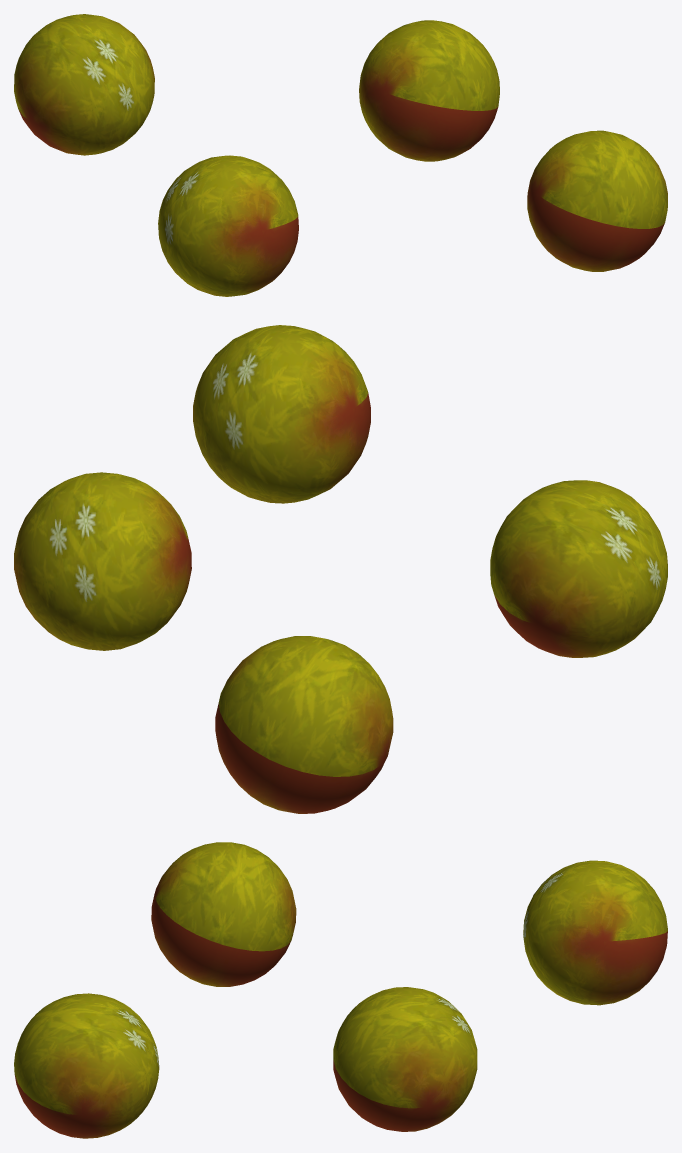
Rendered from Grass Seeds.fbx.
The picture shows the model from 3 angles, top to bottom: view 1: azimuth 30°, elevation 25°; view 2: azimuth 150°, elevation 25°; view 3: azimuth 270°, elevation 25°; orthographic projection. The views are drawn at different scales.
Parts seen in each view (by area): view 1: Sphere (1), Sphere, Sphere (2), Sphere (3); view 2: Sphere (2), Sphere (3), Sphere, Sphere (1); view 3: Sphere (3), Sphere (2), Sphere (1), Sphere.
Boxes of the visible parts, x1,y1,x2,y2 form: Sphere (1): (359, 20, 499, 161); Sphere: (158, 155, 298, 296); Sphere (2): (14, 14, 154, 155); Sphere (3): (527, 130, 667, 271); Sphere (2): (215, 636, 393, 813); Sphere (3): (193, 325, 370, 503); Sphere: (490, 480, 667, 657); Sphere (1): (14, 472, 191, 650); Sphere (3): (14, 993, 159, 1138); Sphere (2): (523, 860, 667, 1005); Sphere (1): (333, 987, 477, 1131); Sphere: (151, 842, 296, 986).
Size of the model in its own units: 0.5184 by 0.1491 by 0.6732.
